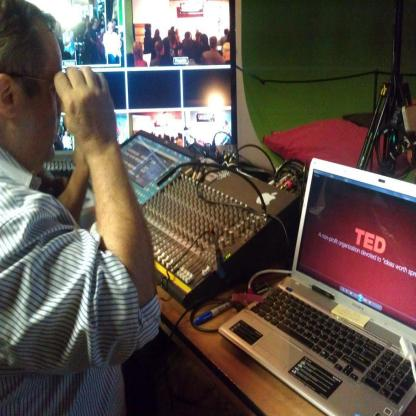board: (217, 157, 416, 416)
